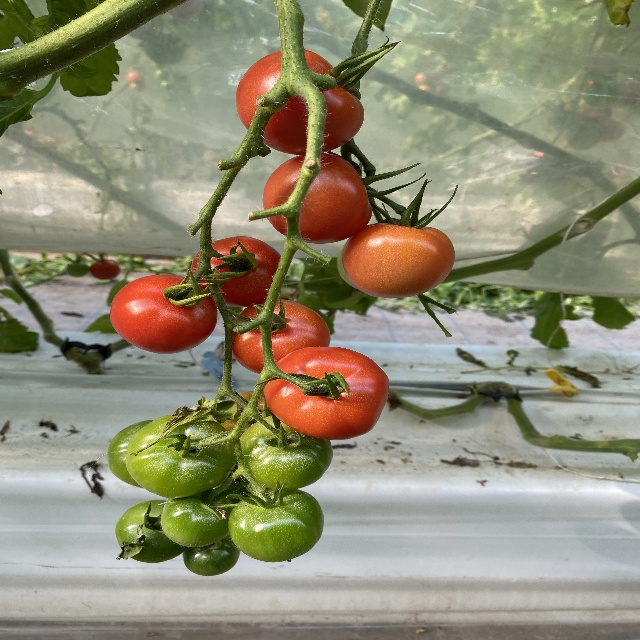l_fully_ripened: (235, 47, 364, 155), (263, 346, 389, 441), (263, 154, 373, 243), (110, 274, 218, 355), (228, 298, 331, 374), (189, 236, 285, 306)
l_green: (124, 413, 236, 498), (237, 416, 333, 491), (229, 489, 324, 563), (116, 499, 187, 563), (161, 489, 234, 548), (108, 419, 155, 489), (183, 533, 240, 576)
l_half_ripened: (342, 222, 456, 298), (217, 391, 275, 441)
